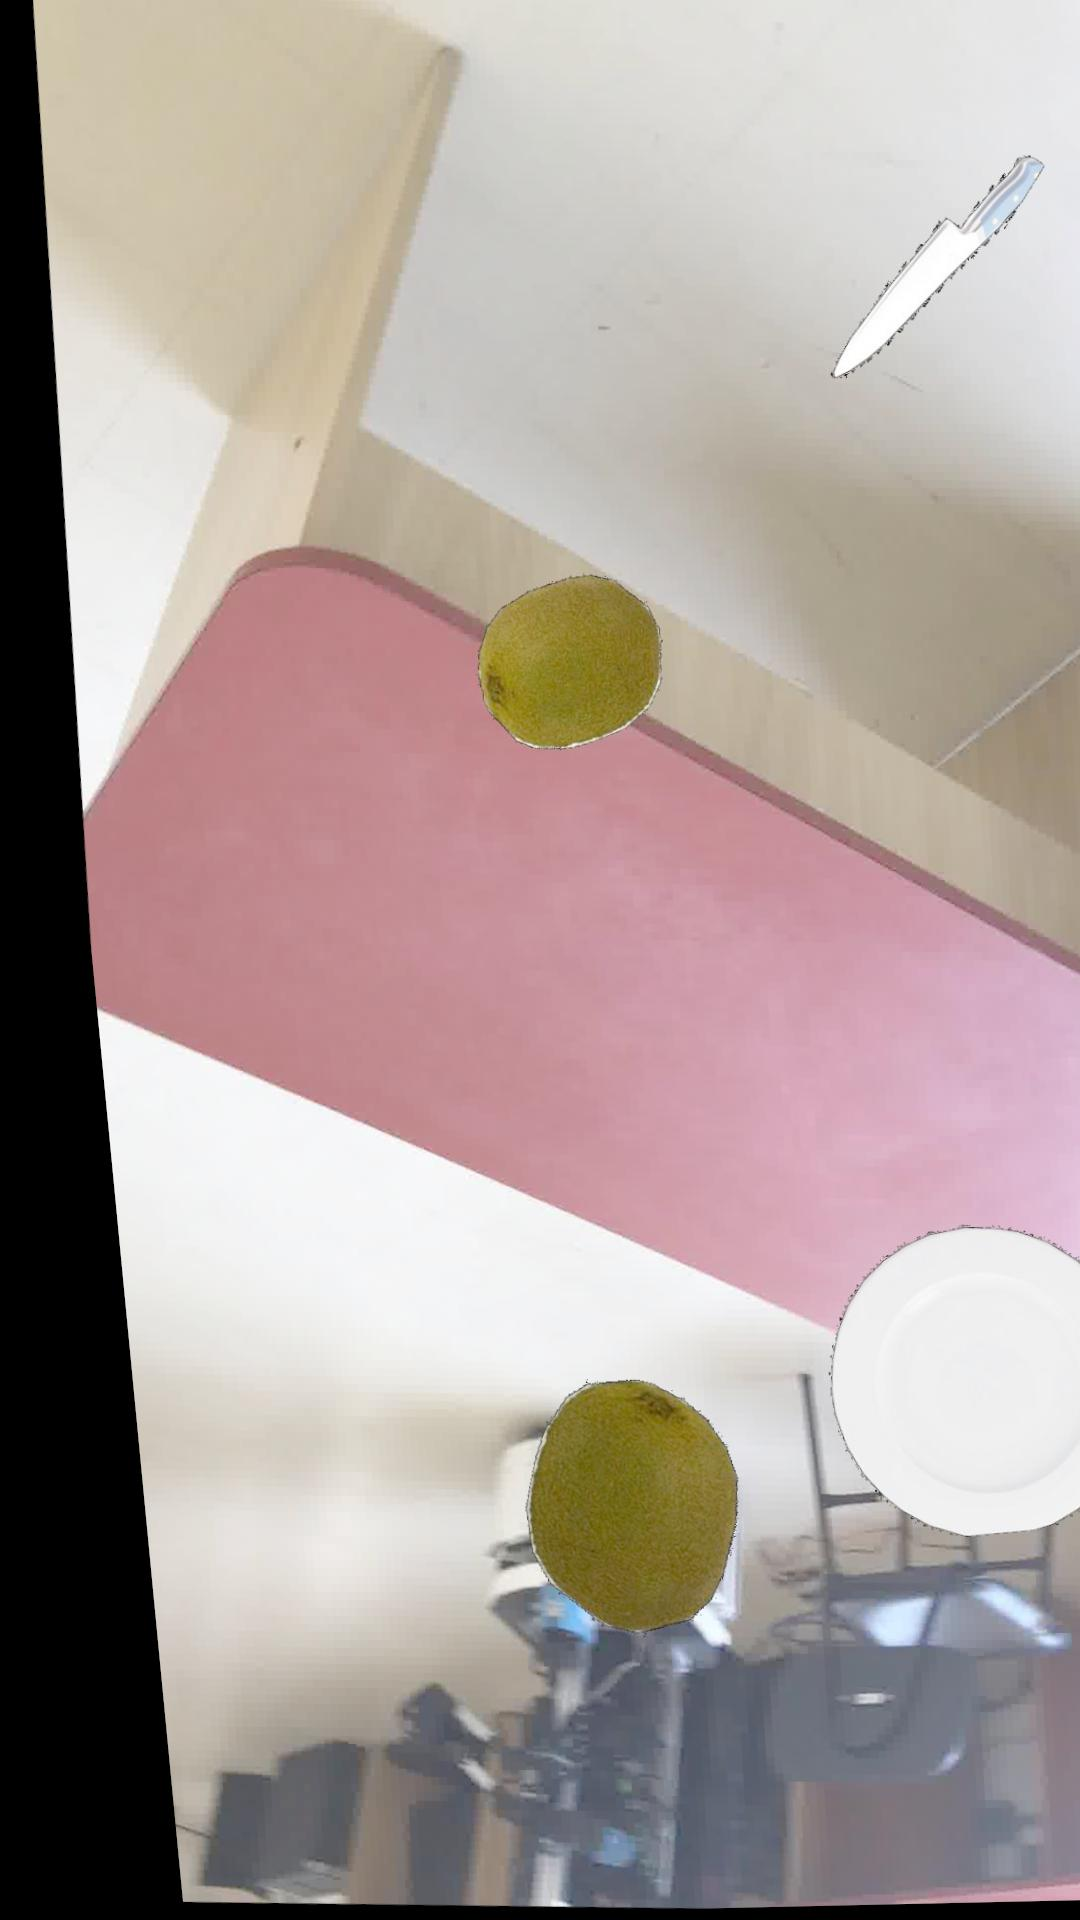kiwi: (496, 1383, 709, 1638), (465, 579, 651, 753)
knife: (824, 162, 1042, 384)
plate: (803, 1233, 1080, 1543)
